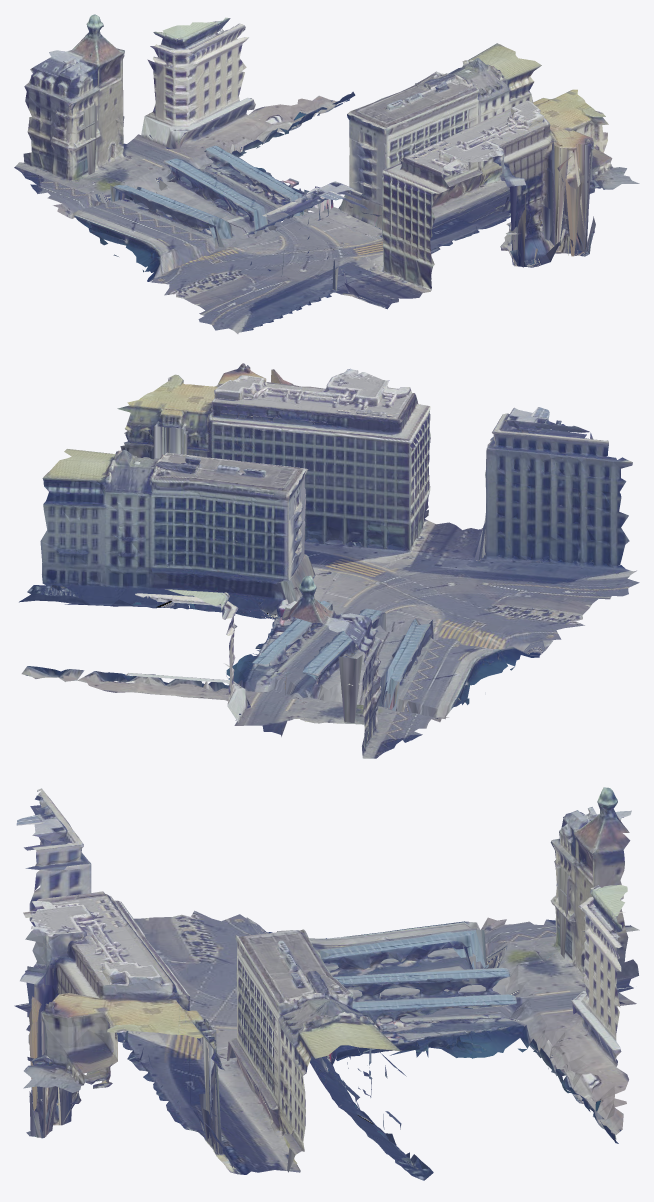
3 views of the same model, one above another, from view 1: azimuth 30°, elevation 25°; view 2: azimuth 150°, elevation 25°; view 3: azimuth 270°, elevation 25° (orthographic). The views are drawn at different scales.
Bounding box in the file's own units: 109 × 38.33 × 108.
Materials: 1 (1 with a texture image).
